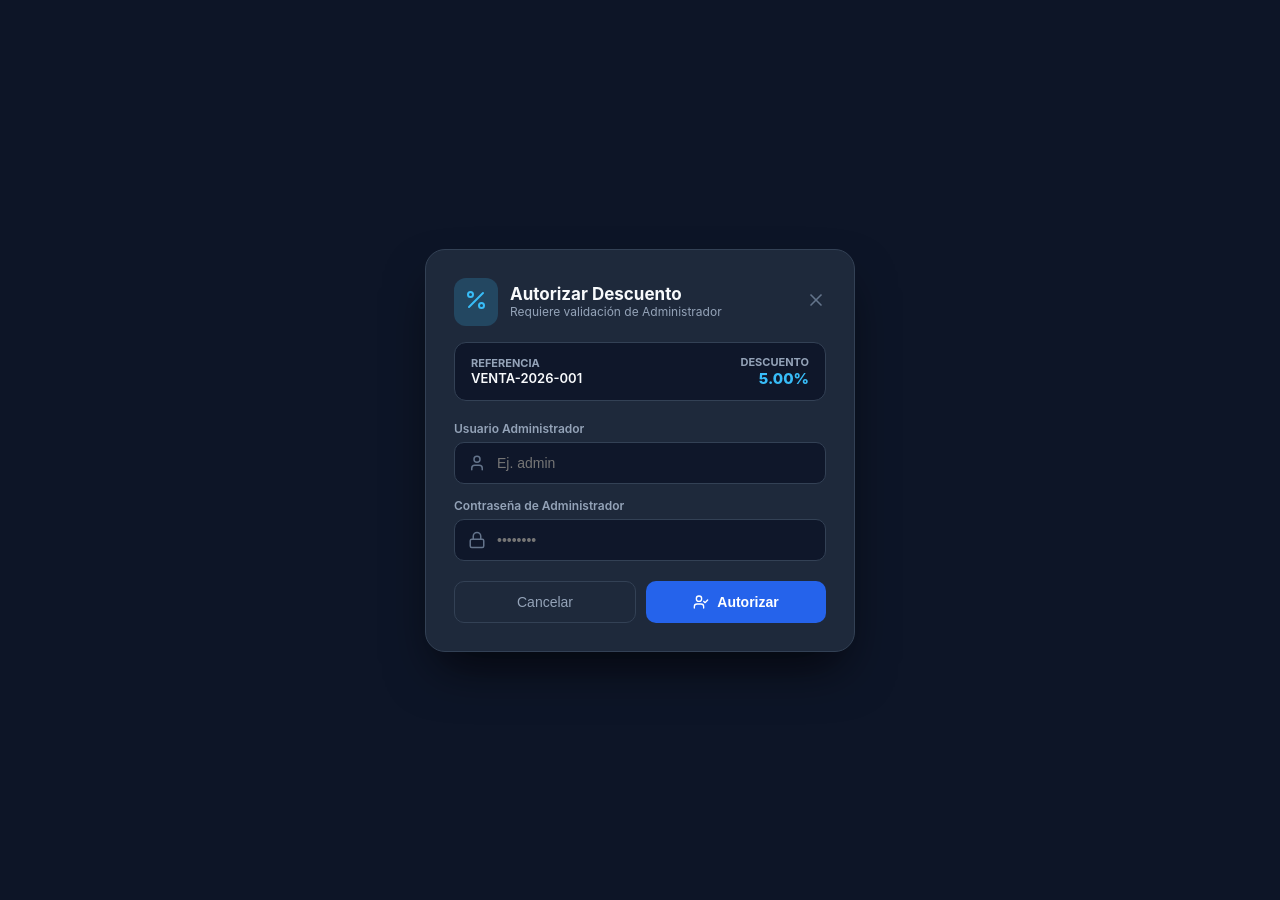
Test: AutorizarDescuentoModal Component (Vitest) › handles backend authentication errors and purges password field
This screenshot has width=1280, height=900.
Type "admin" into the field labelled "Usuario Administrador" at coordinates (640, 462), box [454, 442, 826, 484]
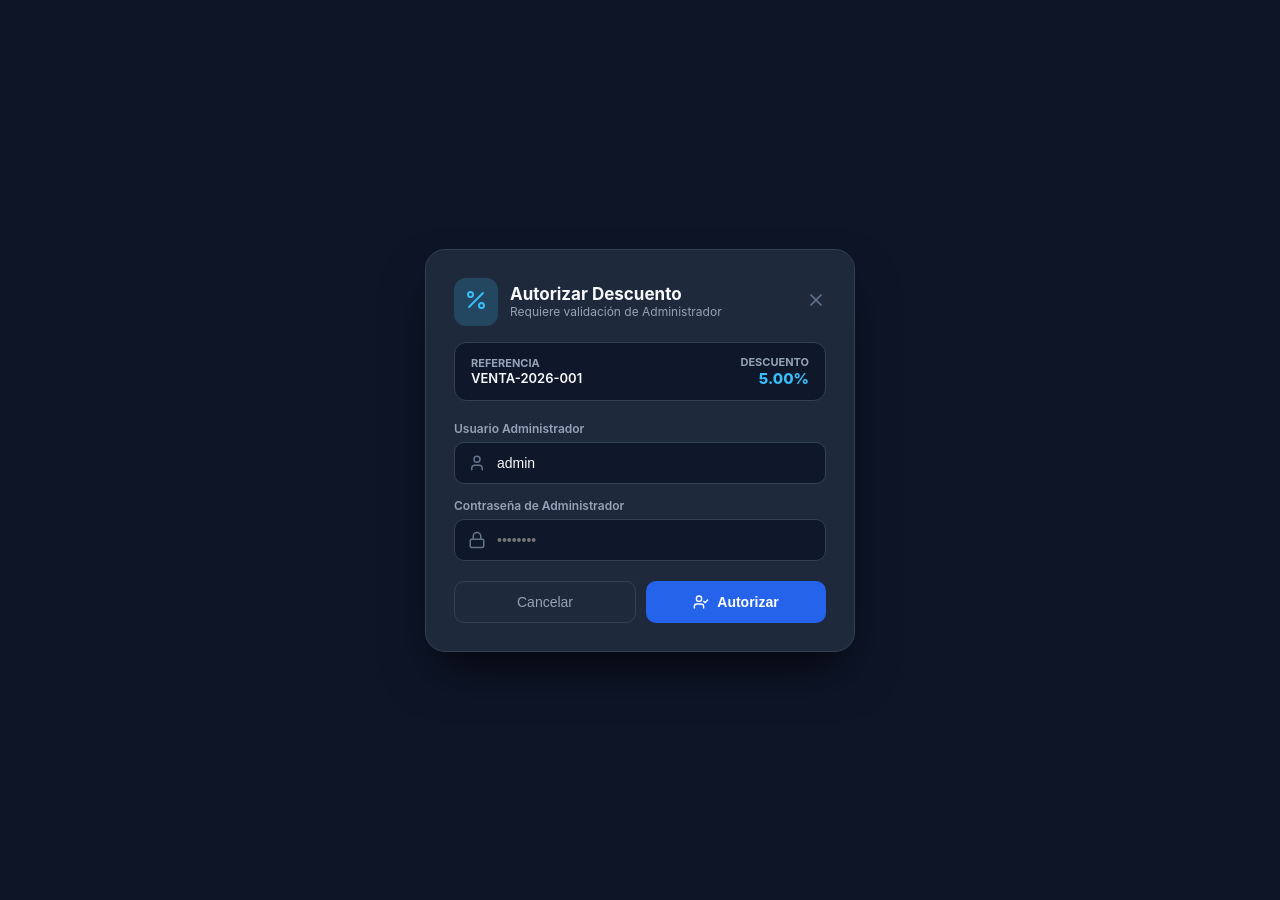
Type "WrongPass" into the password field labelled "Contraseña de Administrador" at coordinates (640, 540), box [454, 518, 826, 560]
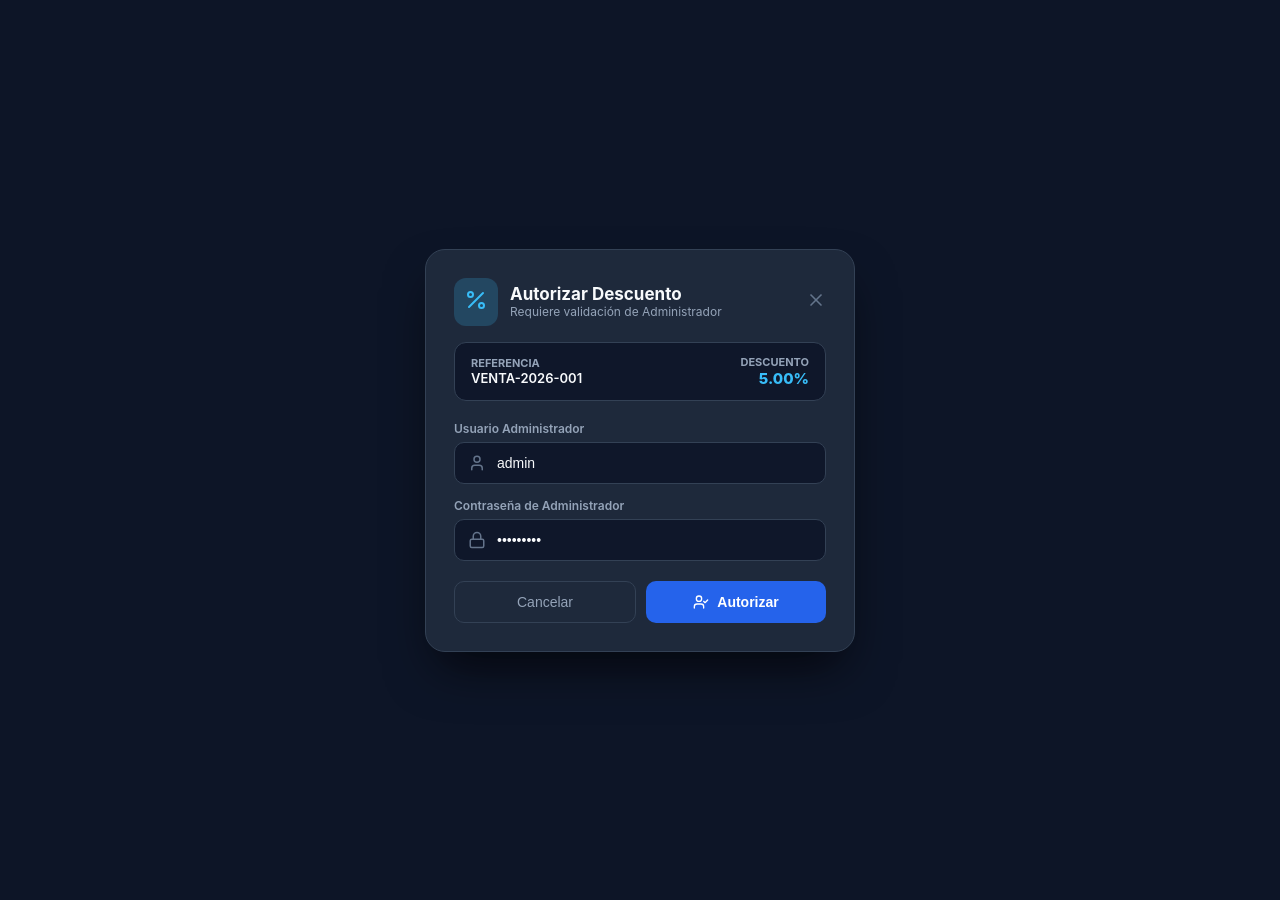
Click the button "Autorizar" at coordinates (736, 602), box [646, 580, 826, 622]
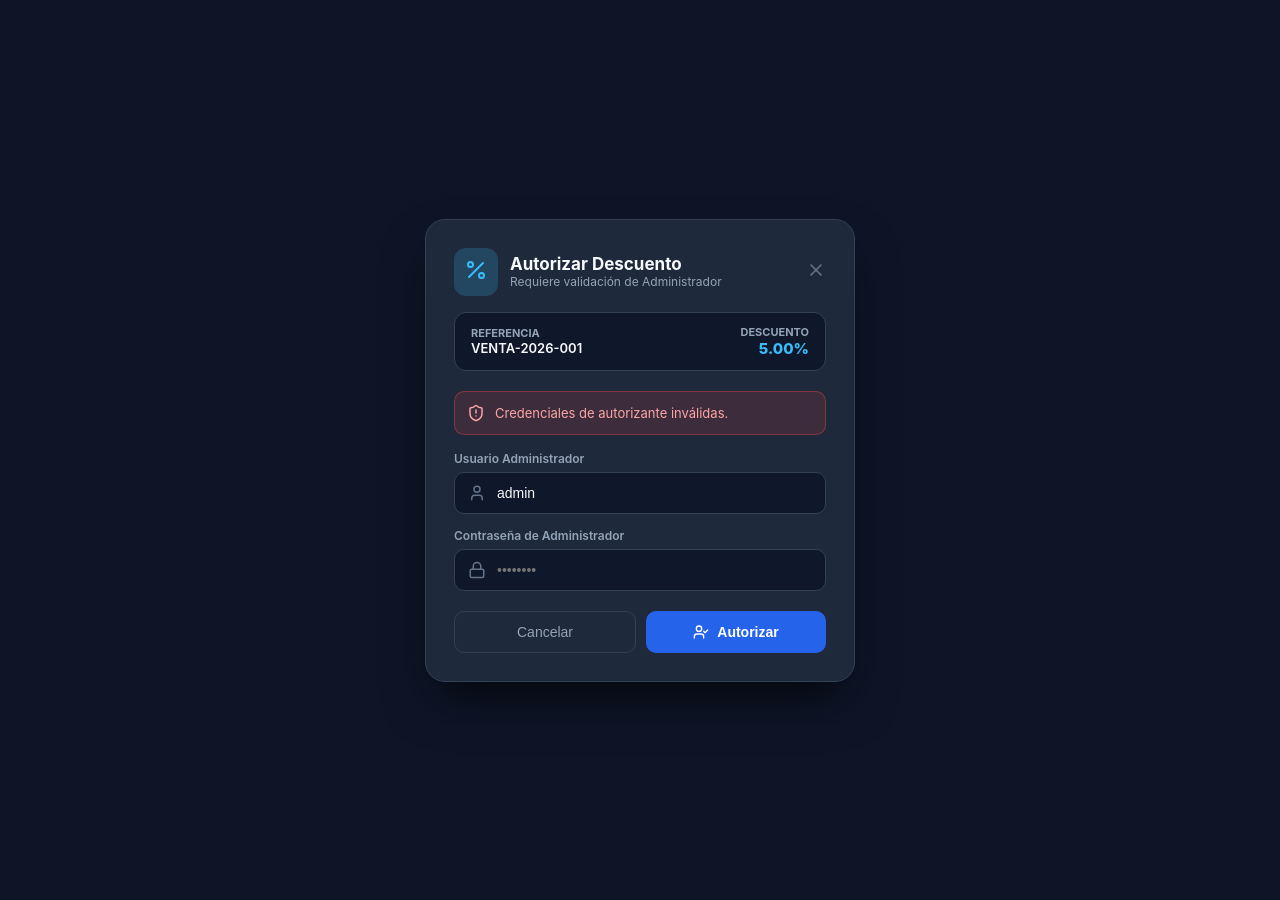
Expected: the text "Credenciales de autorizante inválidas." is shown, [495, 404, 728, 420]
Expected: the password field labelled "Contraseña de Administrador" is empty, [454, 548, 826, 590]
